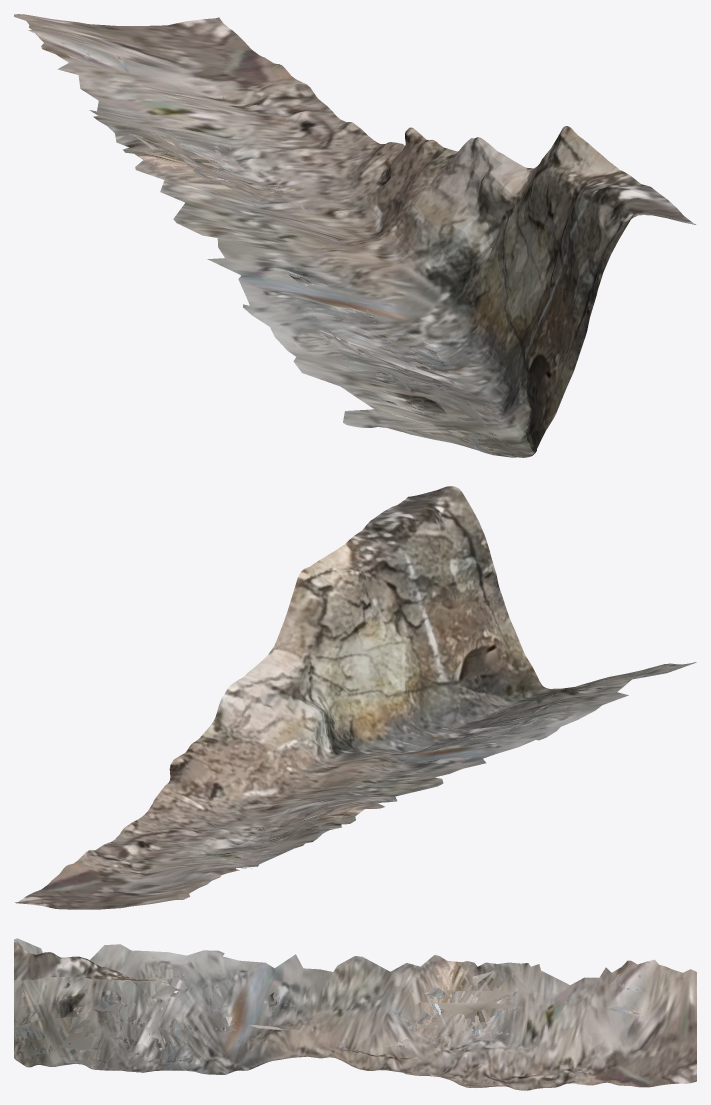
3 renders of one model, top to bottom at view 1: azimuth 30°, elevation 25°; view 2: azimuth 150°, elevation 25°; view 3: azimuth 270°, elevation 25°, orthographic. The views are drawn at different scales.
Bounding box in the file's own units: 1.07 × 0.6529 × 2.53.
Materials: 1 (1 with a texture image).
